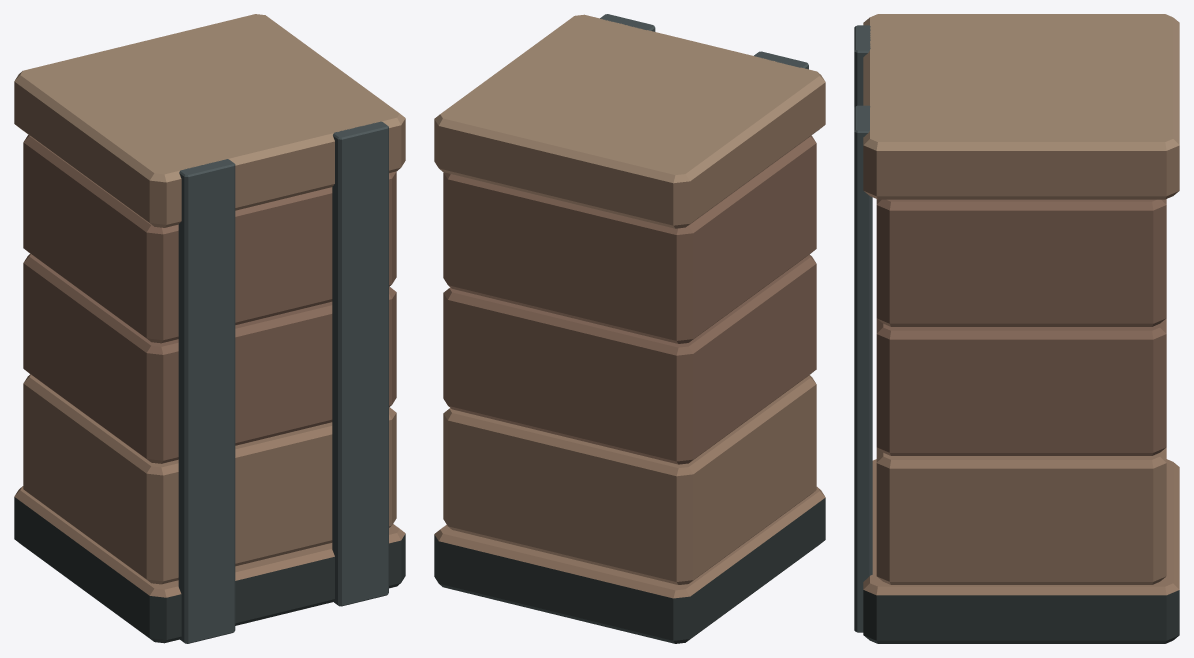
The model's file is wall-end.glb.
The picture shows the model from 3 angles, left to right: view 1: azimuth 30°, elevation 25°; view 2: azimuth 150°, elevation 25°; view 3: azimuth 270°, elevation 25°; orthographic projection. The views are drawn at different scales.
Visible parts, largest first — view 1: wall-end__body; view 2: wall-end__body; view 3: wall-end__body.
Part boxes in pixels (x1,y1,x2,y2): wall-end__body: [14, 14, 405, 643]; wall-end__body: [434, 14, 825, 643]; wall-end__body: [854, 14, 1179, 643].
Size of the model in its own units: 0.6 by 1.05 by 0.6175.
